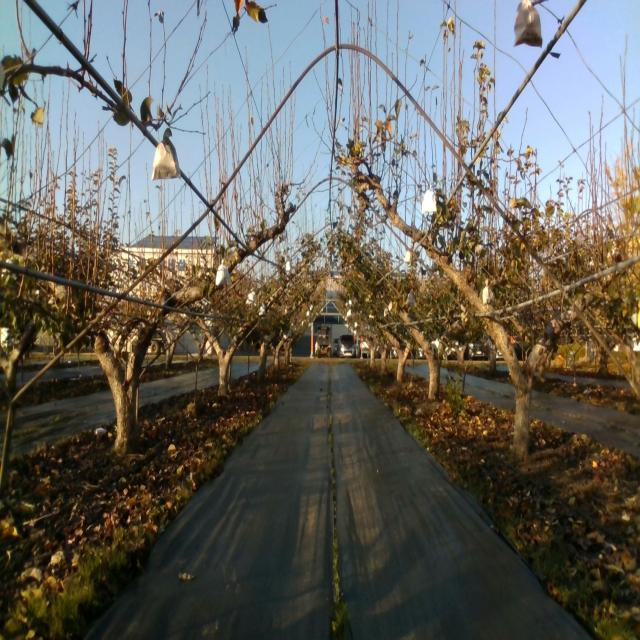pearbags: (512, 0, 543, 51), (152, 136, 180, 180), (215, 260, 231, 287), (421, 186, 437, 213), (482, 277, 494, 304), (246, 288, 256, 306)
